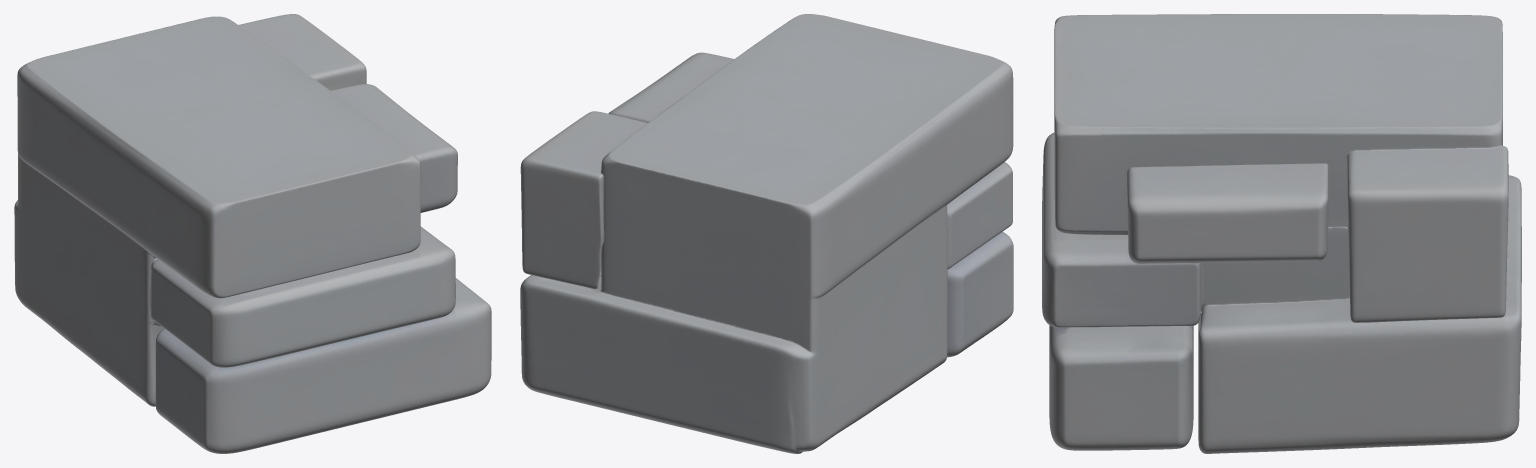
Rendered from BMC_blender_07_CostStructure_1754477996199.glb.
3 views of the same model, side by side, from view 1: azimuth 30°, elevation 25°; view 2: azimuth 150°, elevation 25°; view 3: azimuth 270°, elevation 25° (orthographic). The views are drawn at different scales.
Visible parts, largest first — view 1: tripo_node_0e808b39-c35e-469b-9410-deb06746f65e; view 2: tripo_node_0e808b39-c35e-469b-9410-deb06746f65e; view 3: tripo_node_0e808b39-c35e-469b-9410-deb06746f65e.
Boxes of the visible parts, <box> form: tripo_node_0e808b39-c35e-469b-9410-deb06746f65e: <box>14,14,491,453</box>; tripo_node_0e808b39-c35e-469b-9410-deb06746f65e: <box>520,14,1013,453</box>; tripo_node_0e808b39-c35e-469b-9410-deb06746f65e: <box>1042,14,1521,453</box>.
Bounding box in the file's own units: 0.7927 × 0.6676 × 1.
1 material, 1 textured.
